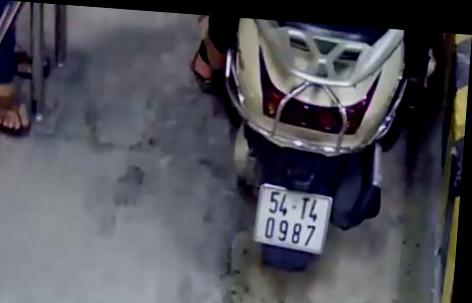License_Plate: (243, 177, 339, 264)
